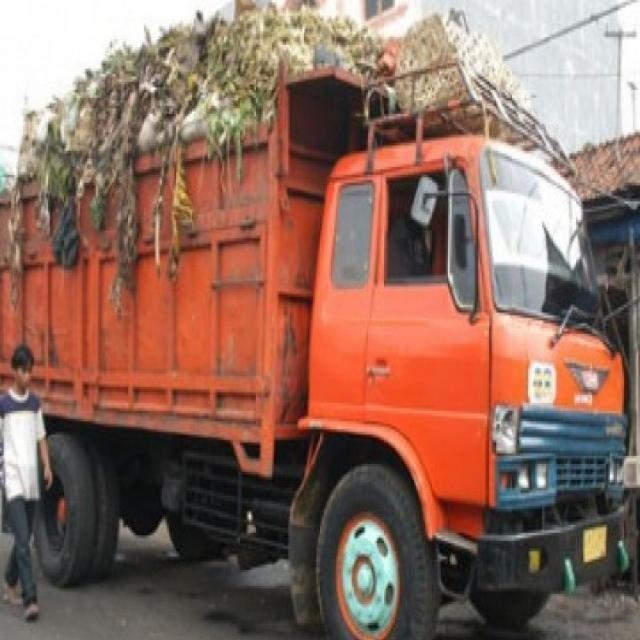Truck: (0, 60, 624, 633)
